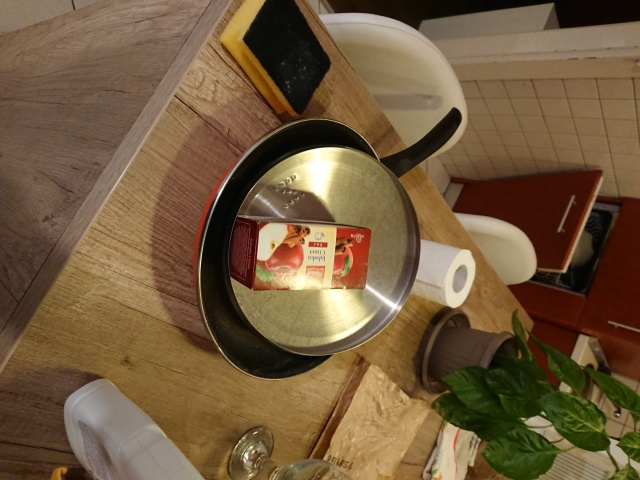Franck Apple Cinnamon Tea 60g: (223, 213, 374, 294)
